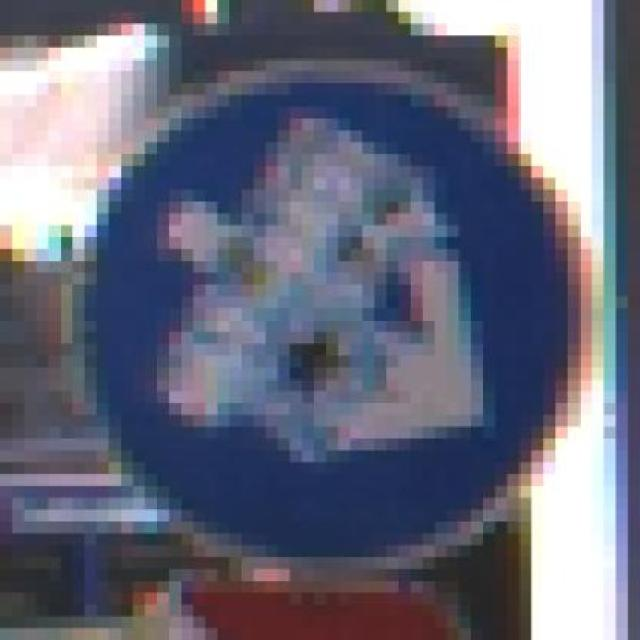Keep-Right: (48, 58, 604, 570)
